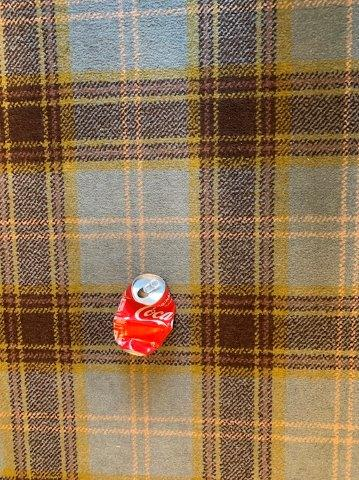kaleng: (113, 274, 172, 356)
